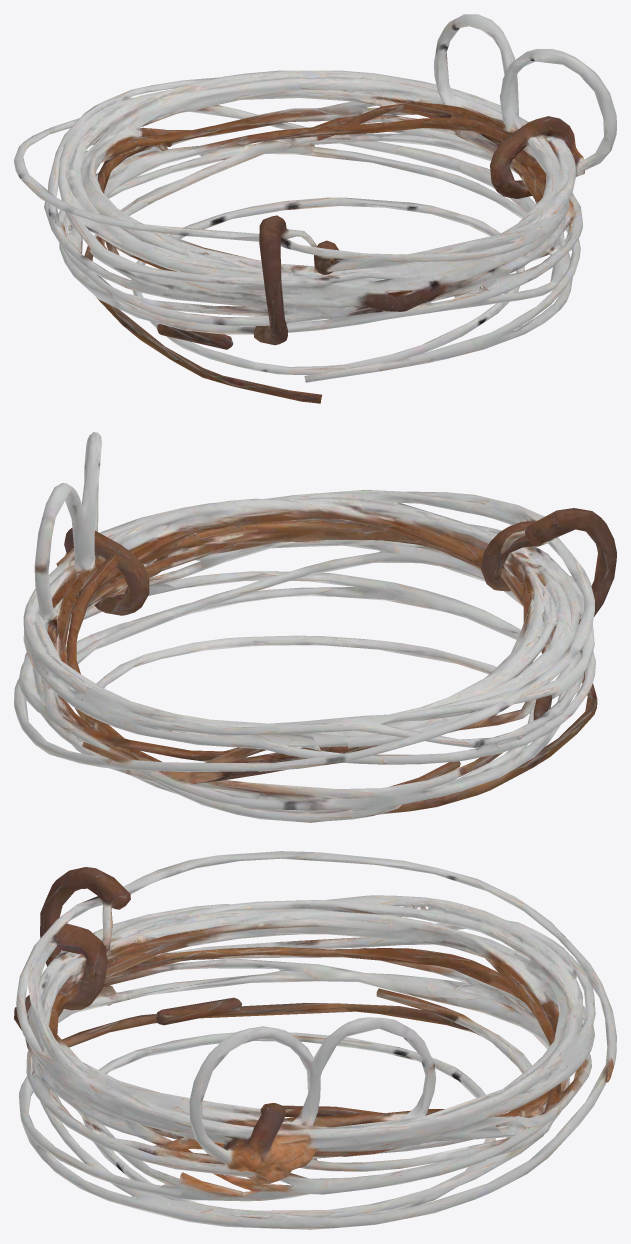
File: prop-snare-empty.glb
The picture shows the model from 3 angles, top to bottom: view 1: azimuth 30°, elevation 25°; view 2: azimuth 150°, elevation 25°; view 3: azimuth 270°, elevation 25°; orthographic projection. The views are drawn at different scales.
Bounding box in the file's own units: 1.91 × 0.7215 × 1.83.
Materials: 1 (1 with a texture image).
